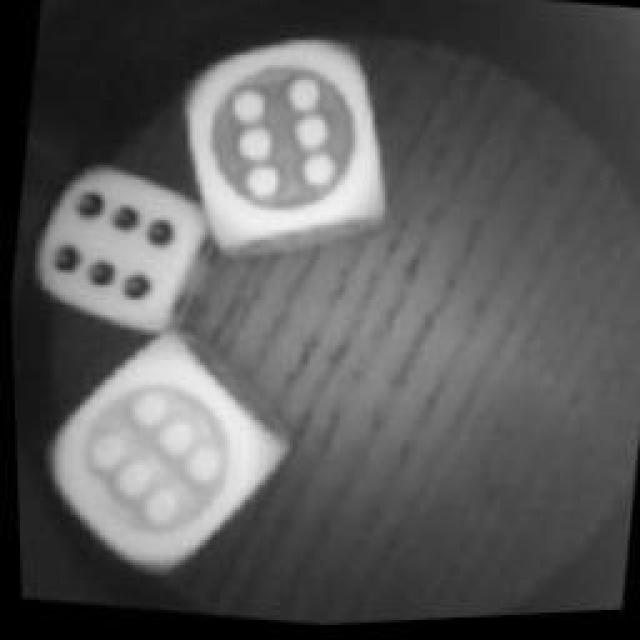dice_6: (25, 315, 300, 600), (161, 18, 404, 270), (24, 156, 214, 346)
